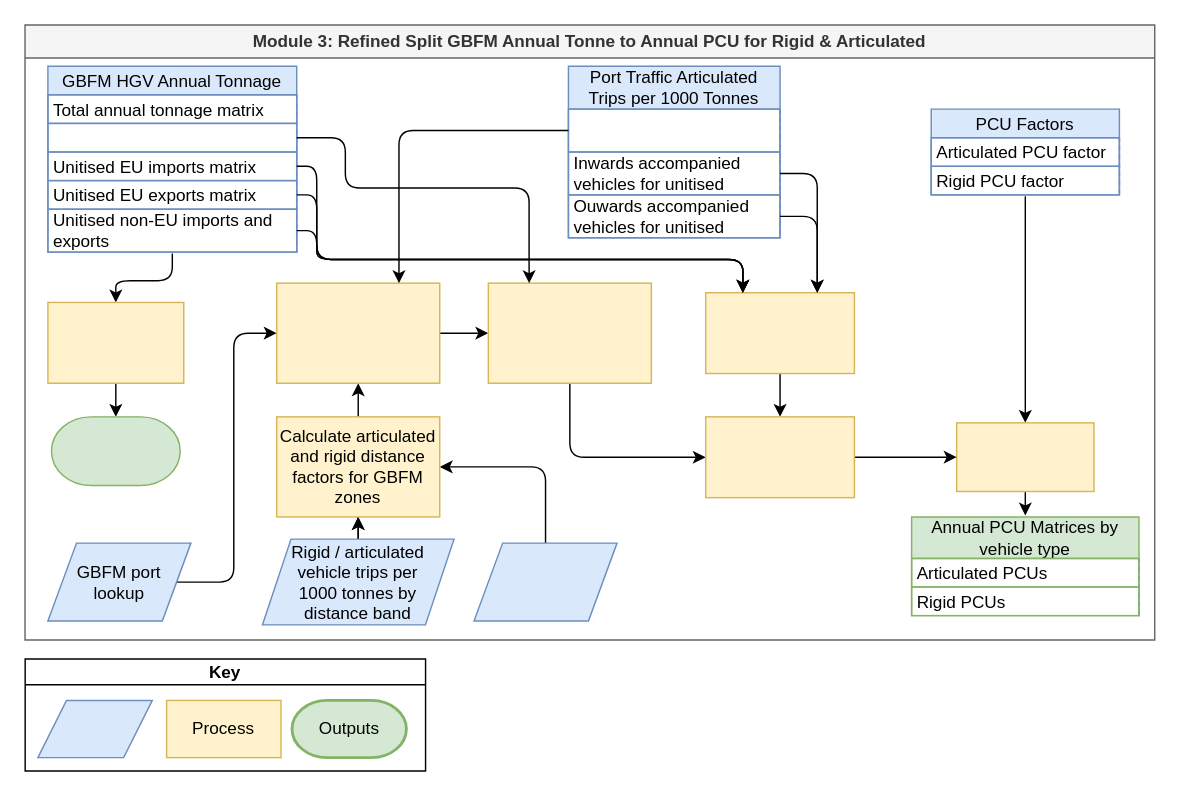
Some shapes in this 1180 by 797 pixel diagram are drawn without their labels. The centre of each missing label's shape, as x and y in pixels:
"Aggregate matrices together based on vehicle type" goes at pixel 779 456.
"All-directions for unaccompanied ro-ro" goes at pixel 673 130.
"Check all four input matrices sum to total matrix" goes at pixel 115 342.
"Convert domestic and bulk port to articulated and rigid trips" goes at pixel 569 332.
"Convert number of trips to PCUs" goes at pixel 1024 456.
"Convert unitised trade to articulated & rigid trips" goes at pixel 779 332.
"Domestic and bulk port matrix" goes at pixel 171 137.
"GBFM distance matrix" goes at pixel 545 581.
"Inputs" goes at pixel 94 728.
"Summary of difference from total" goes at pixel 115 450.
"Update factors for any zone pairs involving ports" goes at pixel 357 332.
